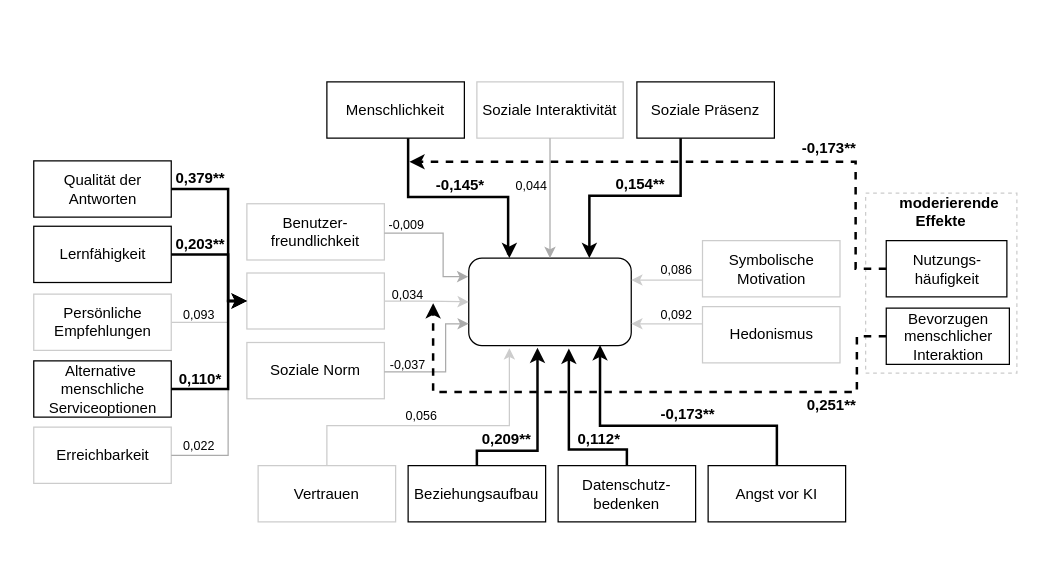
This 1039x588 diagram has some shape labels left out. The shapes that lost their labels are listed below. From the top down, each one's centre as x and y in pixels, then its label:
At point 315,300: "Nützlichkeit".
At point 549,301: "Akzeptanz von KI-Chatbots (Nutzungsabsicht)".
